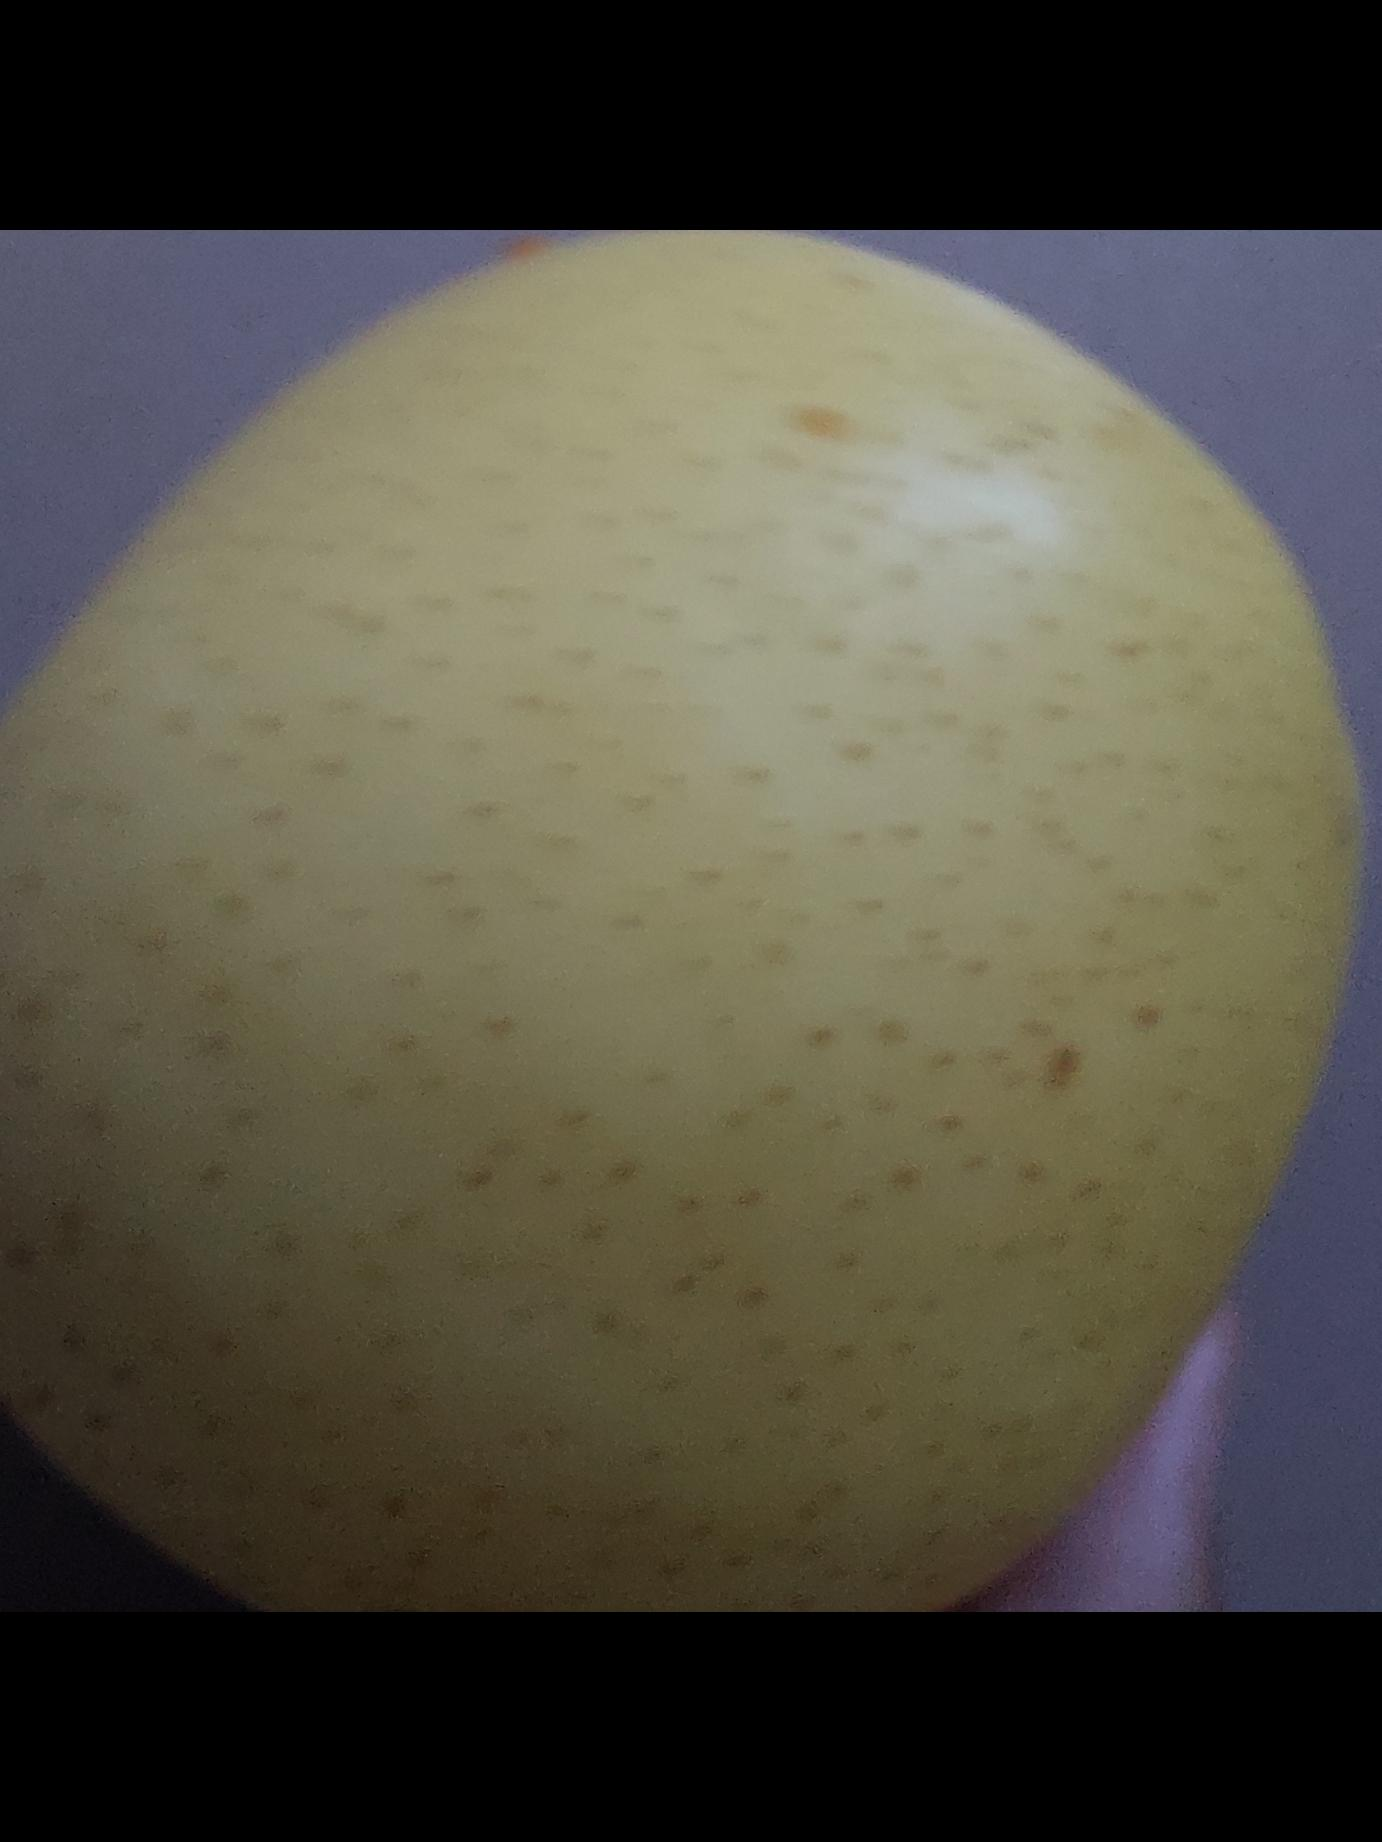Good Pear: (0, 230, 1372, 1612)
